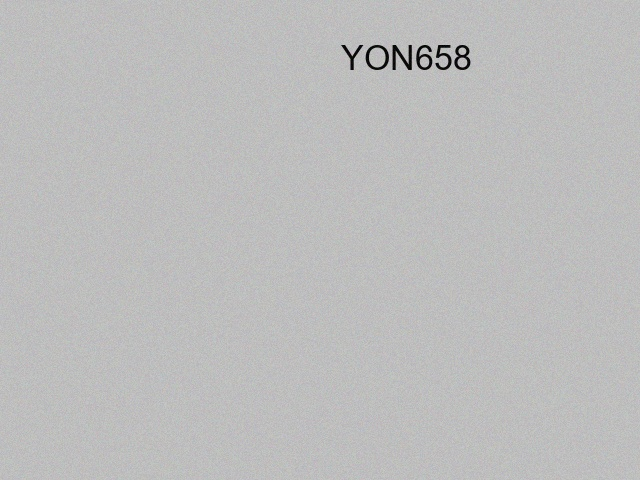OCR_AREA: (337, 41, 476, 74)
